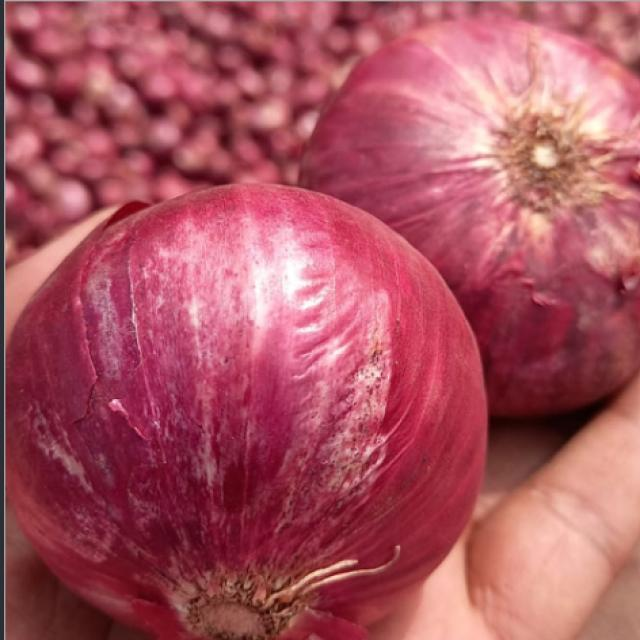healthy: (7, 185, 484, 639)
